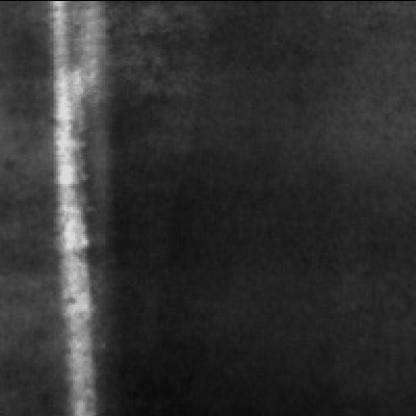scratches: (44, 0, 102, 412)
